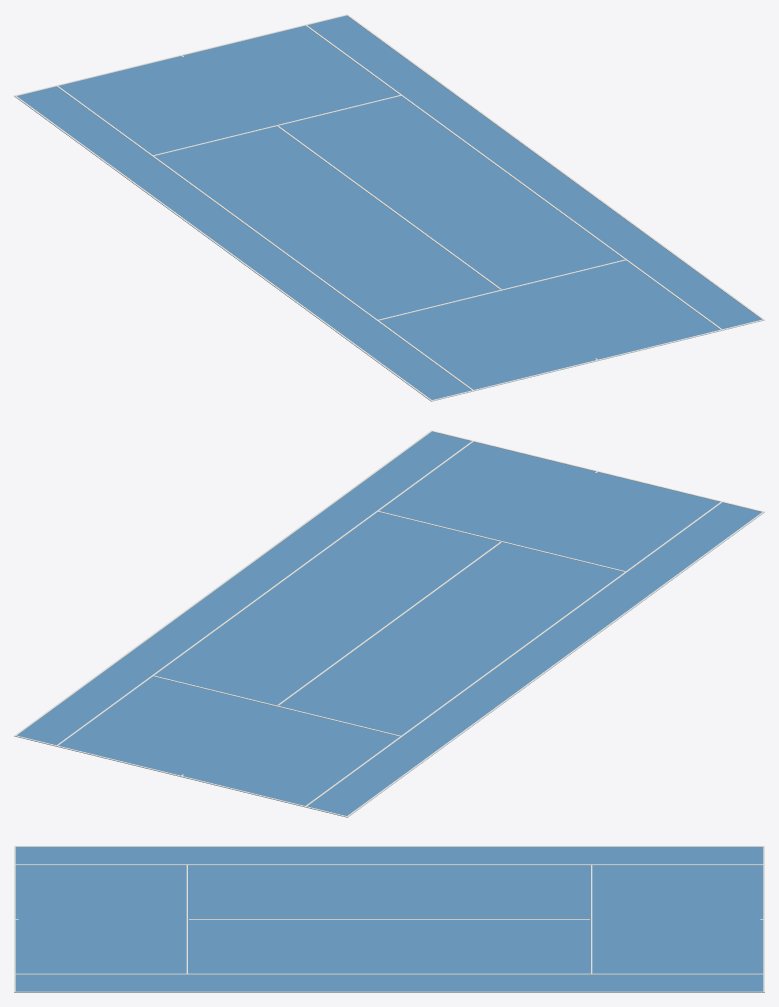
Rendered from tennis-club-and-courts-court-line-markings-d174ea58__33606.glb.
3 renders of one model, top to bottom at view 1: azimuth 30°, elevation 25°; view 2: azimuth 150°, elevation 25°; view 3: azimuth 270°, elevation 25°, orthographic. The views are drawn at different scales.
Visible parts, largest first — view 1: court-line-markings; view 2: court-line-markings; view 3: court-line-markings.
Part boxes in pixels (left/top/right/bottom): court-line-markings: left=14, top=14, right=764, bottom=401; court-line-markings: left=14, top=430, right=764, bottom=817; court-line-markings: left=14, top=846, right=764, bottom=992.
Size of the model in its own units: 10.97 by 0.0177 by 23.77.
